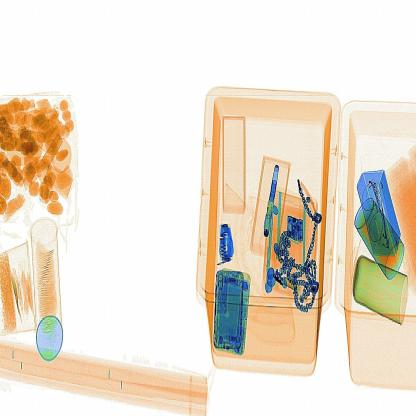scissors: (213, 218, 244, 270)
